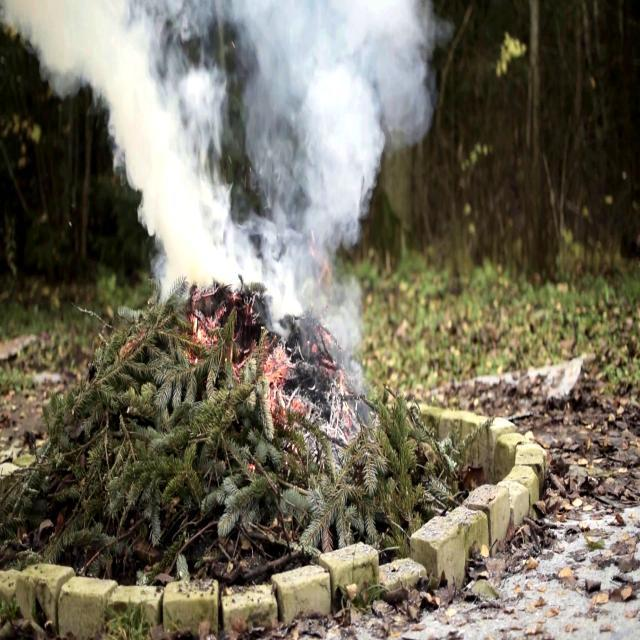Smoke: (250, 0, 422, 361), (73, 0, 246, 306)
